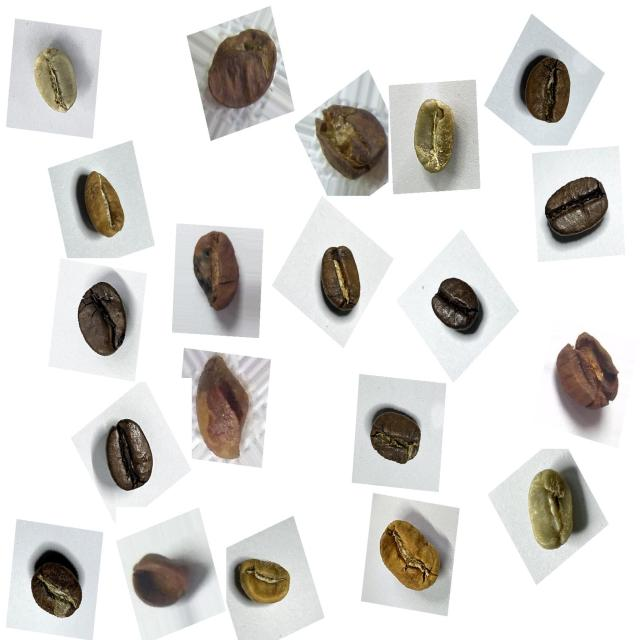bad: (180, 349, 258, 475), (194, 18, 282, 124), (545, 322, 632, 424), (178, 220, 253, 326), (307, 95, 389, 184), (126, 535, 198, 619)
dark: (536, 162, 618, 255), (62, 274, 137, 374), (95, 406, 167, 503), (423, 262, 494, 344)
green: (514, 455, 592, 565), (400, 87, 469, 187), (21, 35, 93, 125)
light: (68, 158, 142, 251), (228, 540, 302, 618), (376, 515, 449, 593)
medium: (21, 545, 92, 633), (515, 50, 586, 137), (360, 396, 433, 477), (308, 236, 372, 322)
